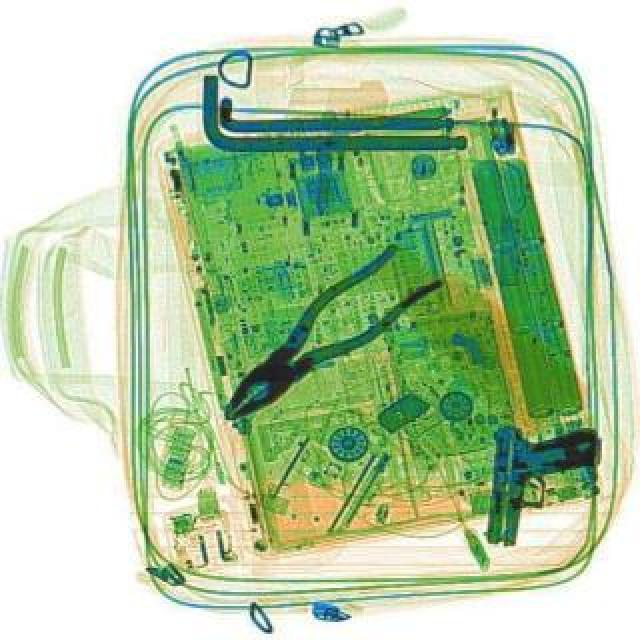gun: (482, 420, 602, 552)
wrench: (196, 230, 446, 442)
